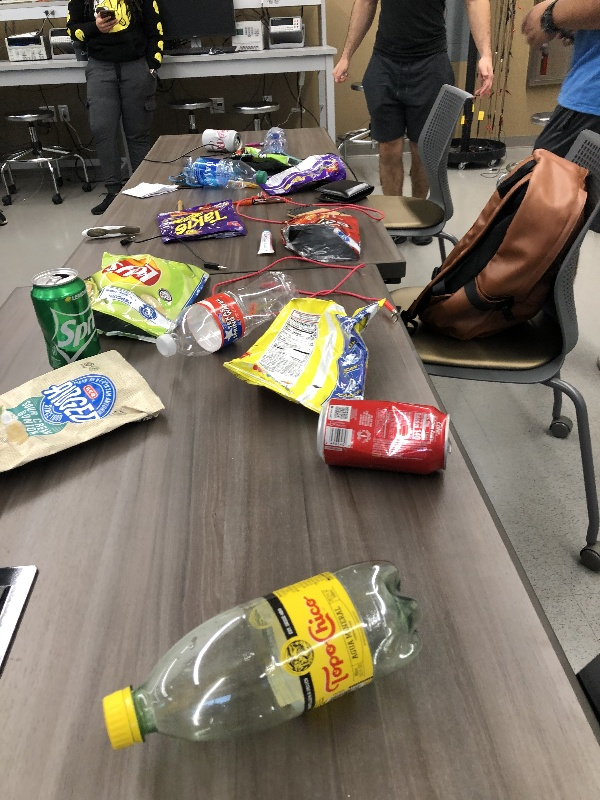bag: (218, 292, 404, 423), (1, 343, 167, 486), (81, 249, 214, 341), (273, 206, 365, 267), (153, 197, 250, 245), (262, 151, 350, 196), (238, 144, 306, 170)
bottle: (93, 557, 427, 763), (155, 266, 301, 358), (179, 154, 268, 191), (262, 126, 293, 153)
can: (312, 395, 458, 482), (26, 269, 103, 373), (198, 125, 244, 151)
